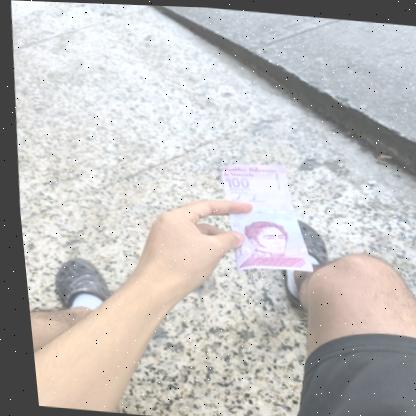one_hundred-front-vef: (211, 157, 313, 276)
